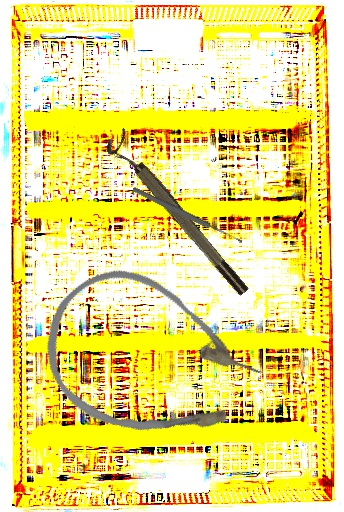Cannula: (22, 248, 280, 475)
Fixation Ring: (101, 127, 253, 305)
Surgical Spoon: (131, 185, 244, 246)
